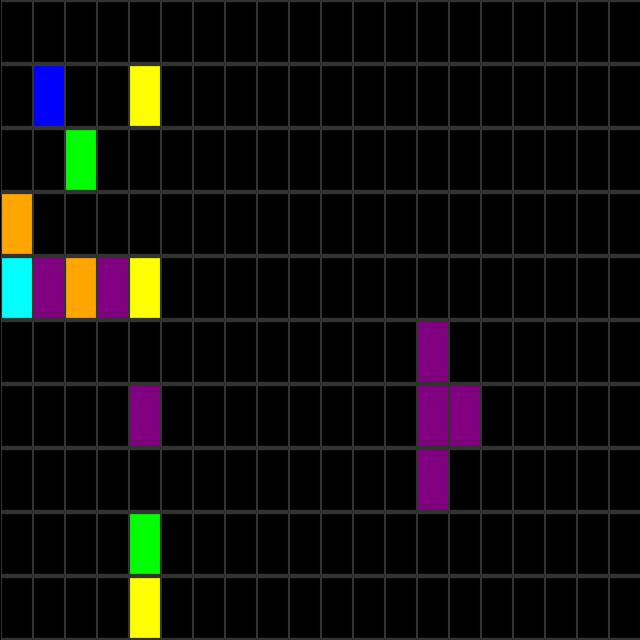Tetrimino_J: (417, 325, 482, 511)
